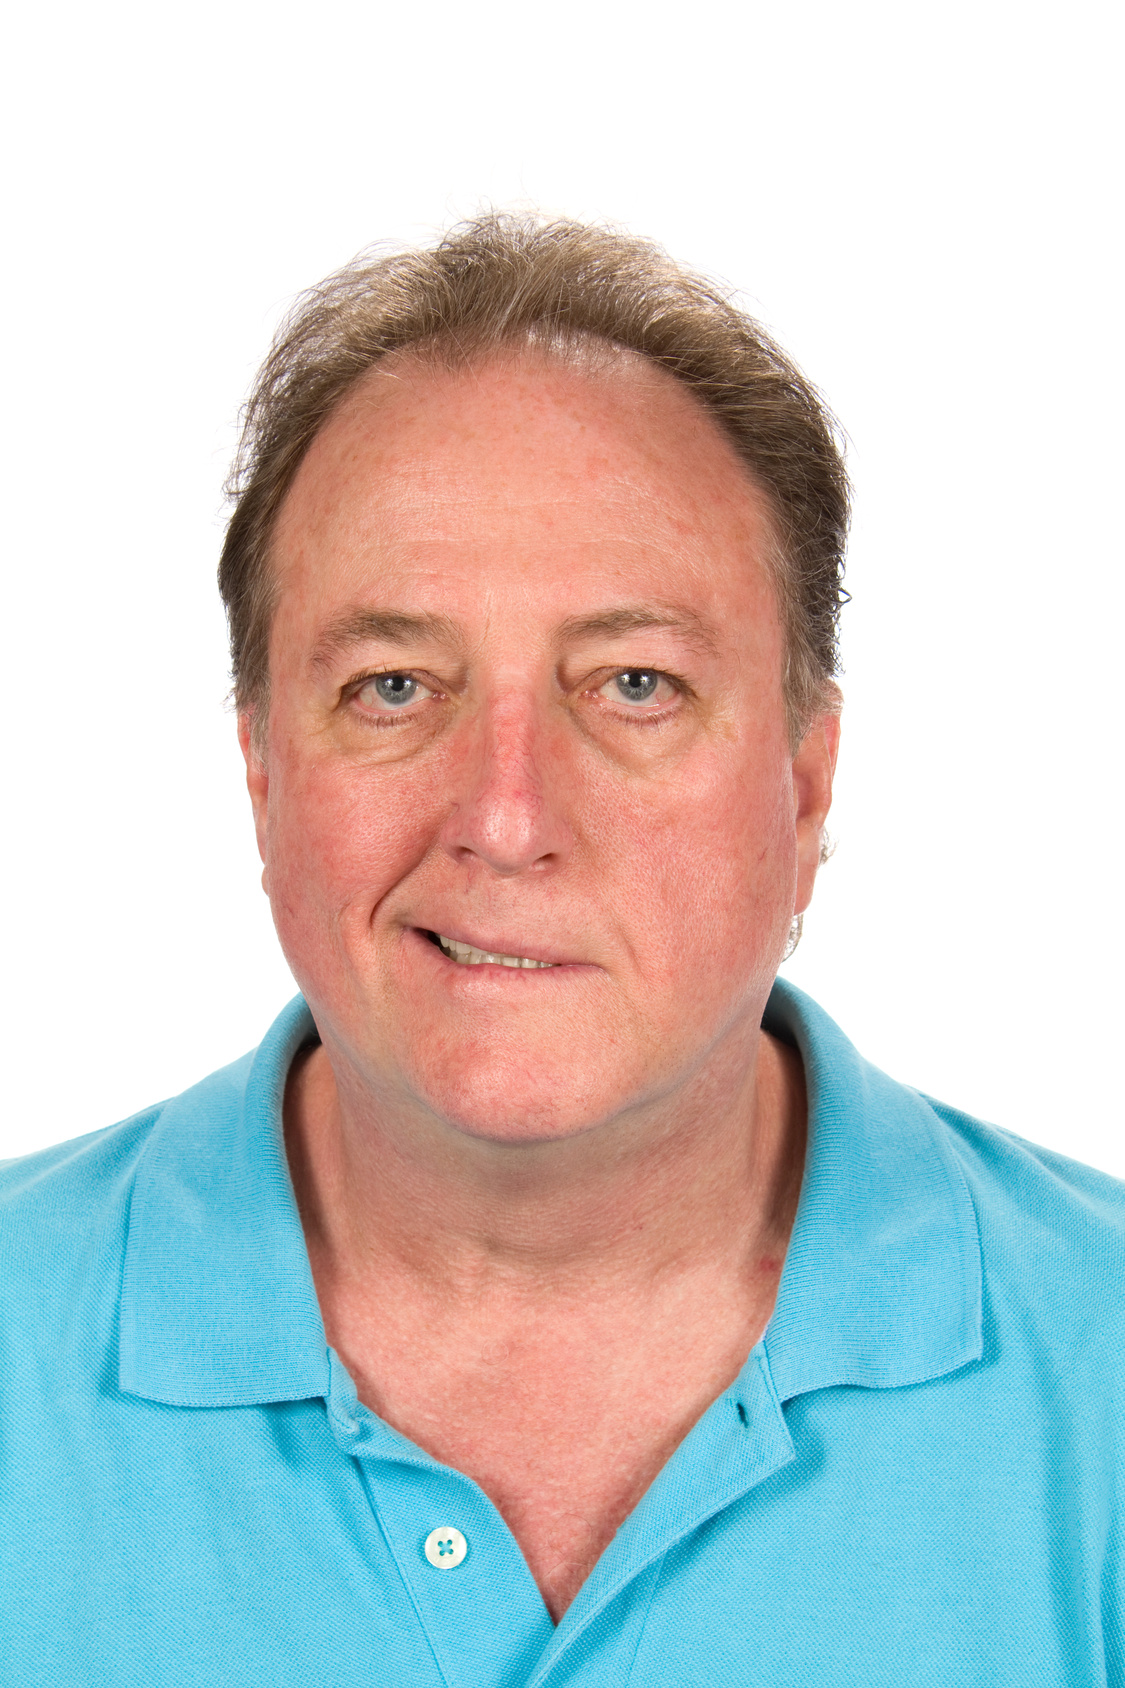stroke: (254, 404, 740, 1130)
